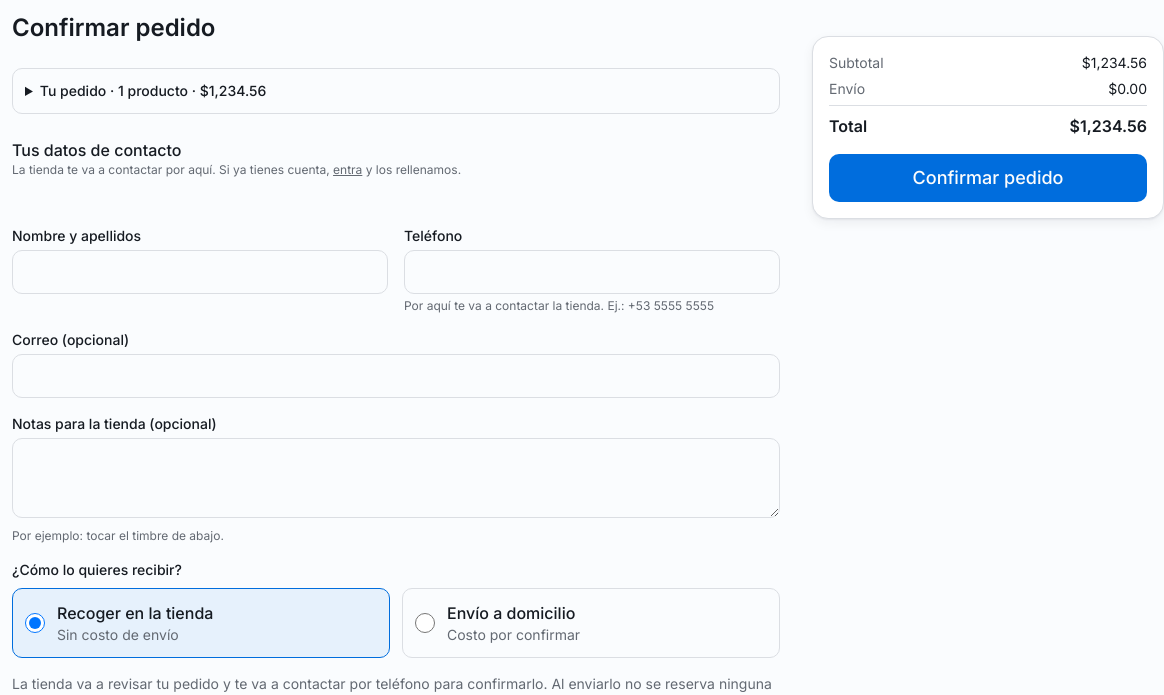
Test: CheckoutForm — envío cotizado (F-031) › el radio de domicilio existe, su descripción no lleva dígitos, el envío no es una cifra y el total es parcial (criterio 1)
Expected: the button "Confirmar pedido" is enabled, [829,154,1147,202]
Expected: the text "Costo por confirmar" is shown, [447,625,580,645]
Click the radio button labelled "Envío a domicilio Costo por confirmar" at point(425, 623), box [415,613,435,633]
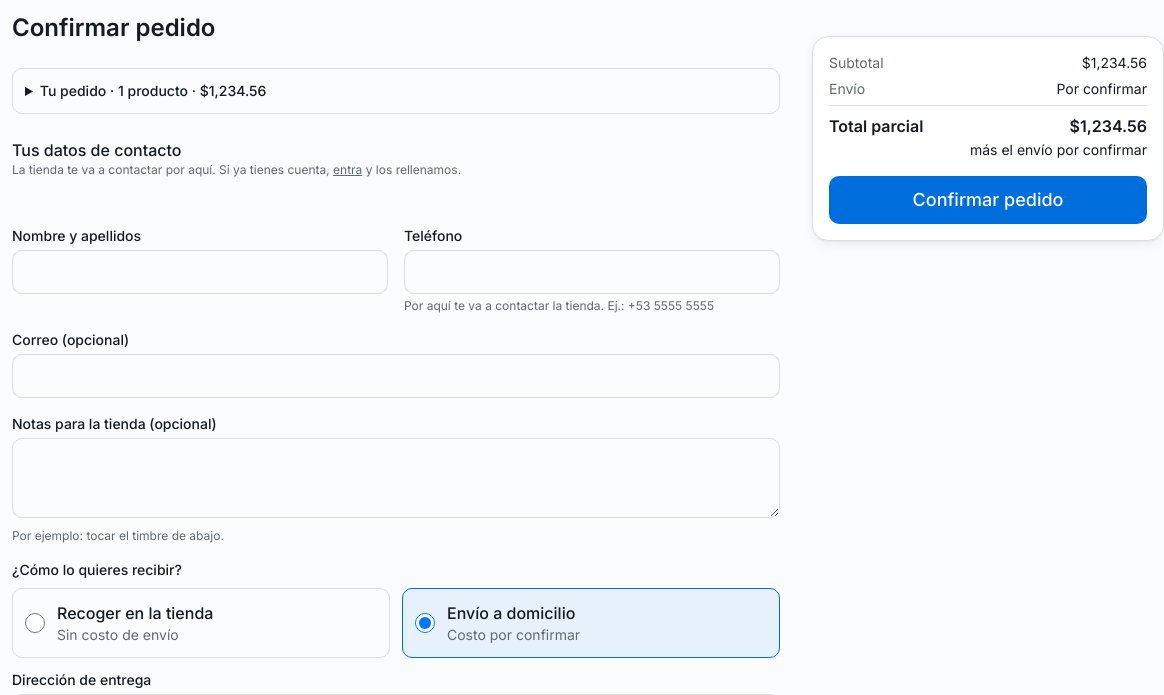
Now the text "Total parcial" is shown, box [829,114,923,138]
Now the text "más el envío por confirmar" is shown, box [970,141,1147,158]
